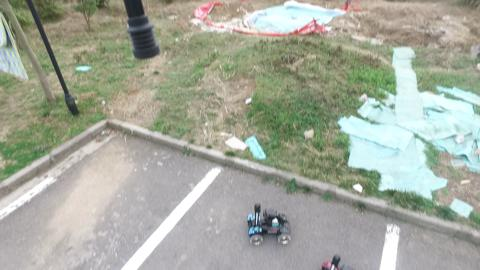chariot: (240, 201, 302, 255)
